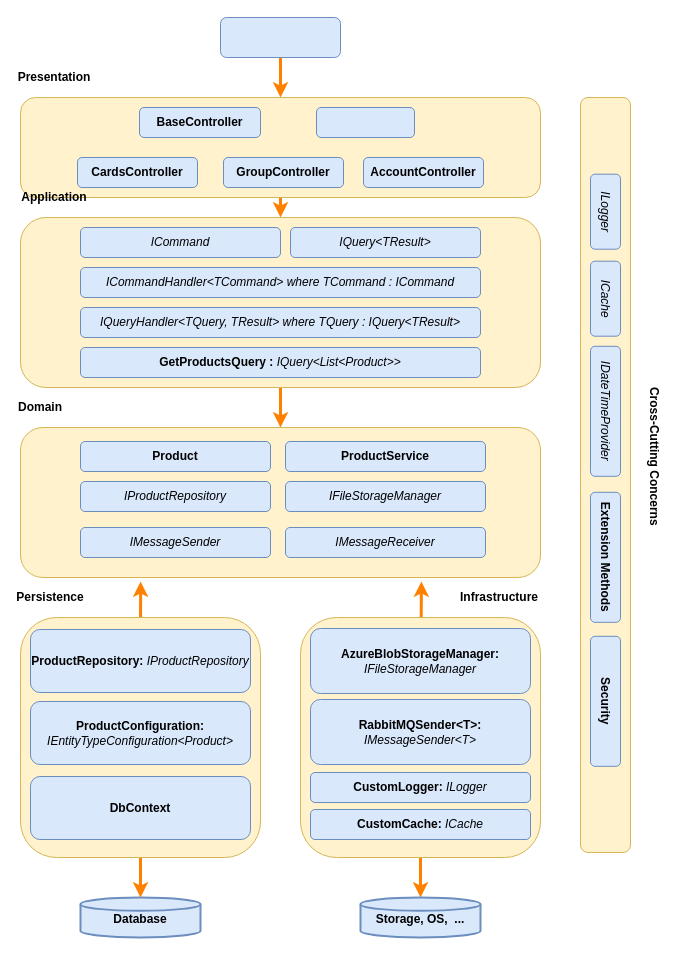
Some shapes in this 682 by 956 pixel diagram are drawn without their labels. Here are the shapes that lost their labels. From the top down, the centre of each, then its label:
At (280,37): "Users".
At (365,122): "MetaController".
